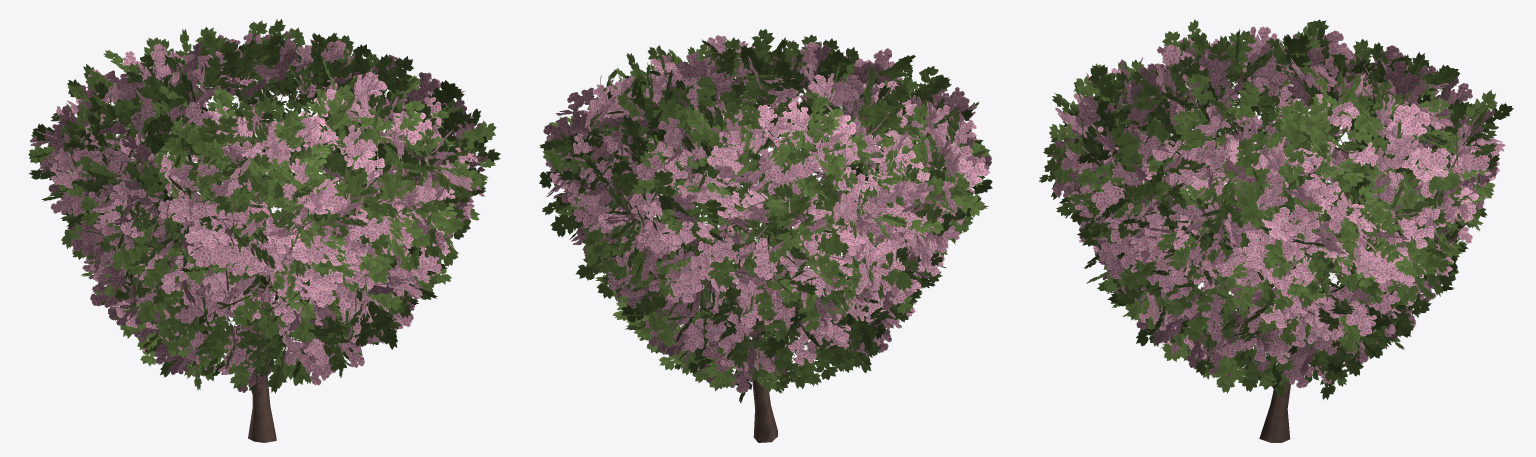
The model's file is cerisier_mobile.glb.
3 renders of one model, left to right at view 1: azimuth 30°, elevation 25°; view 2: azimuth 150°, elevation 25°; view 3: azimuth 270°, elevation 25°, orthographic. The views are drawn at different scales.
Parts seen in each view (by area): view 1: cerisier_feuilles, cerisier_fleurs, cerisier_ecorce; view 2: cerisier_feuilles, cerisier_fleurs, cerisier_ecorce; view 3: cerisier_feuilles, cerisier_fleurs, cerisier_ecorce.
Boxes of the visible parts, x1,y1,x2,y2 form: cerisier_feuilles: [28, 19, 500, 393]; cerisier_fleurs: [30, 31, 487, 392]; cerisier_ecorce: [172, 164, 310, 442]; cerisier_feuilles: [539, 29, 992, 403]; cerisier_fleurs: [543, 35, 991, 392]; cerisier_ecorce: [656, 191, 825, 442]; cerisier_feuilles: [1039, 19, 1513, 399]; cerisier_fleurs: [1044, 26, 1505, 388]; cerisier_ecorce: [1204, 188, 1363, 442].
Bounding box in the file's own units: 10.63 × 9.07 × 10.46.
3 materials, 3 textured.
